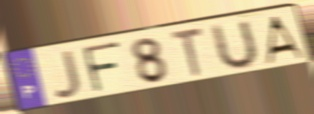8: (130, 37, 171, 85)
A: (263, 13, 307, 66)
F: (80, 40, 123, 95)
J: (52, 48, 84, 100)
T: (169, 25, 206, 80)
U: (210, 17, 260, 73)
